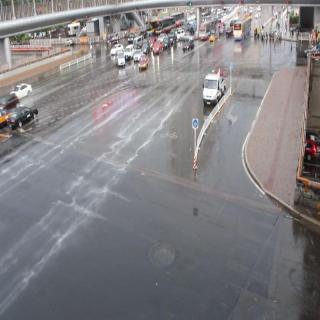BigCar: (196, 14, 221, 39), (233, 17, 255, 41)
Car: (201, 68, 229, 112), (7, 105, 38, 128), (303, 132, 320, 170), (6, 79, 34, 99), (137, 53, 152, 73), (115, 51, 127, 71), (109, 43, 126, 55), (184, 36, 195, 54), (126, 38, 133, 60), (154, 41, 165, 55), (134, 44, 141, 62)
